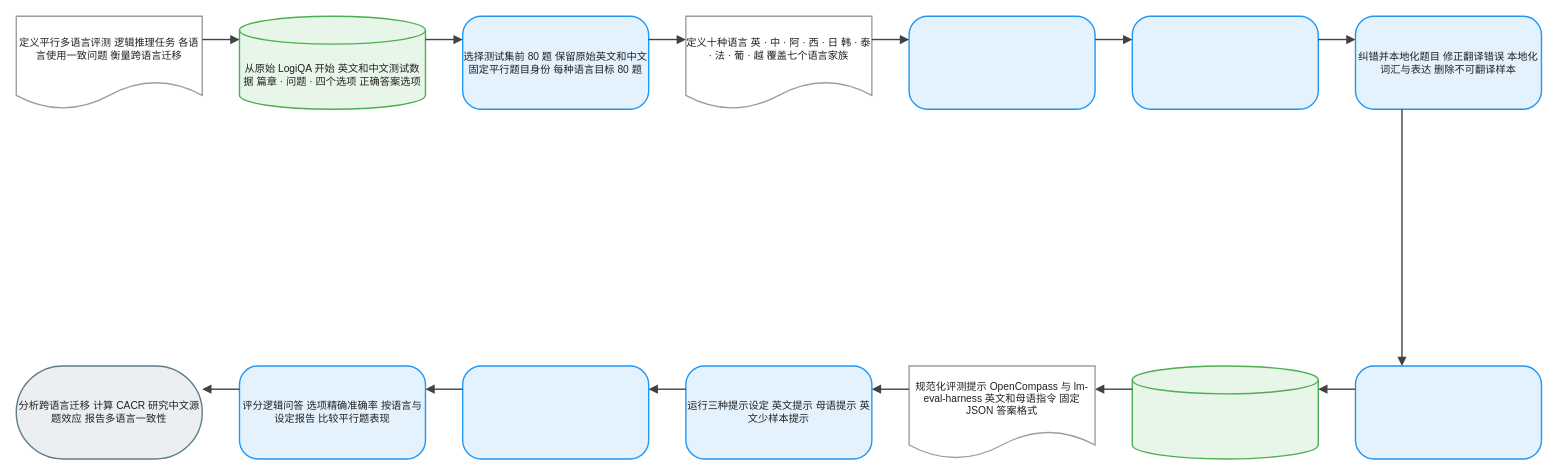
This 1559x476 diagram has some shape labels left out. Each missing label, with the centre of its shape:
在 P-MMEval 发布 MLogiQA 80 道平行问题 10 个语言配置 共 800 条实例: [1225,412]
对齐平行记录 同一篇章 · 问题 · 选项 保持正确选项一致 保留各语言文本: [1448,412]
开展全量人工复核 专业翻译团队 检查含义与自然度 逐条审核所有译文: [1225,62]
翻译另外八种语言 GPT-4o-2024-05-13 翻译完整题目结构 保持选项对应关系: [1001,62]
请求直接作答 MLogiQA 不使用思维链 在 JSON 中返回一个选项 解析所选答案: [555,412]
